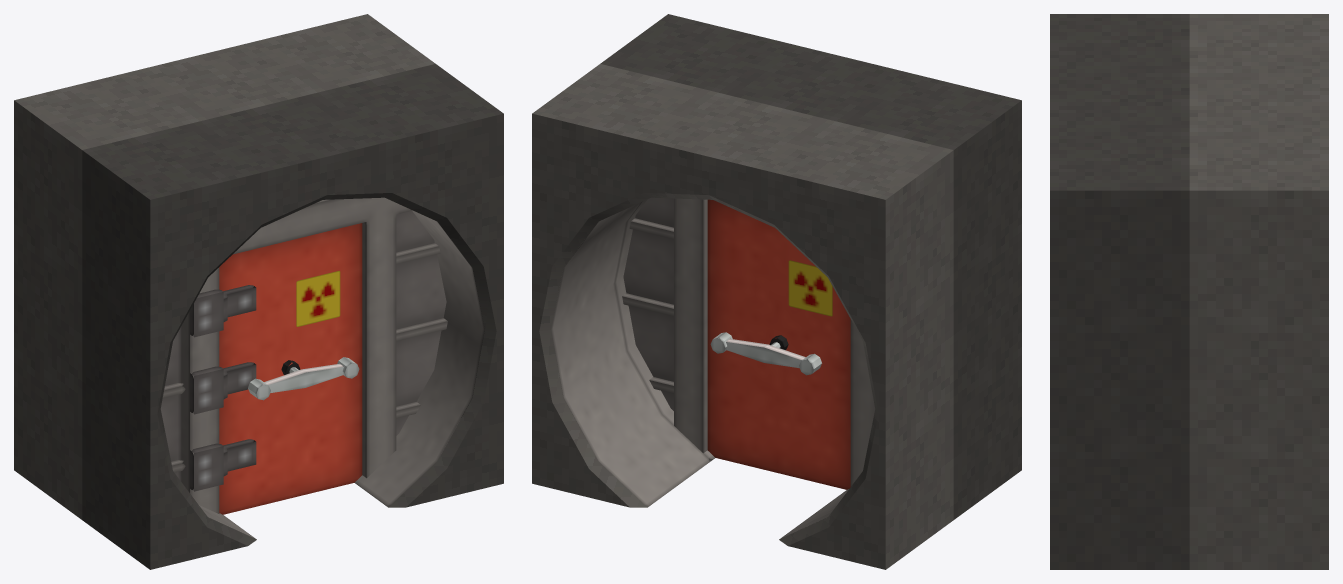
File: reactor_door.obj
3 renders of one model, left to right at view 1: azimuth 30°, elevation 25°; view 2: azimuth 150°, elevation 25°; view 3: azimuth 270°, elevation 25°, orthographic. The views are drawn at different scales.
Parts seen in each view (by area): view 1: FrameA, FrameB, Wall, Door, Handle; view 2: FrameB, FrameA, Wall, Door, Handle; view 3: FrameA, FrameB.
Boxes of the visible parts, x1,y1,x2,y2 form: FrameA: (82, 64, 503, 569); FrameB: (14, 14, 435, 519); Wall: (160, 197, 484, 538); Door: (219, 223, 362, 514); Handle: (248, 357, 359, 400); FrameB: (532, 64, 953, 569); FrameA: (600, 14, 1021, 519); Wall: (551, 197, 875, 538); Door: (707, 199, 850, 489); Handle: (710, 332, 821, 375); FrameA: (1050, 14, 1189, 569); FrameB: (1189, 14, 1328, 569).
Size of the model in its own units: 3 by 3 by 2.
3 materials, 3 textured.
